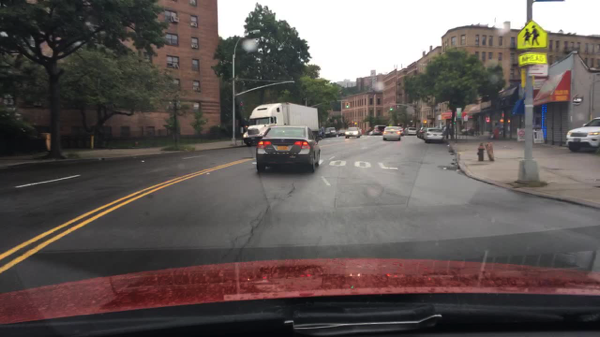car: (253, 124, 320, 173), (564, 118, 599, 157), (420, 126, 444, 143), (381, 126, 400, 142), (343, 126, 362, 140), (325, 126, 336, 138), (372, 125, 386, 134), (406, 127, 417, 135), (416, 126, 424, 136), (337, 126, 345, 135), (399, 128, 406, 137), (325, 129, 332, 137), (366, 130, 374, 135)
traffic light: (345, 101, 349, 109), (390, 105, 393, 113)
traffic sign: (515, 20, 549, 52), (518, 53, 549, 65), (527, 65, 549, 77)
truck: (242, 101, 318, 150)
